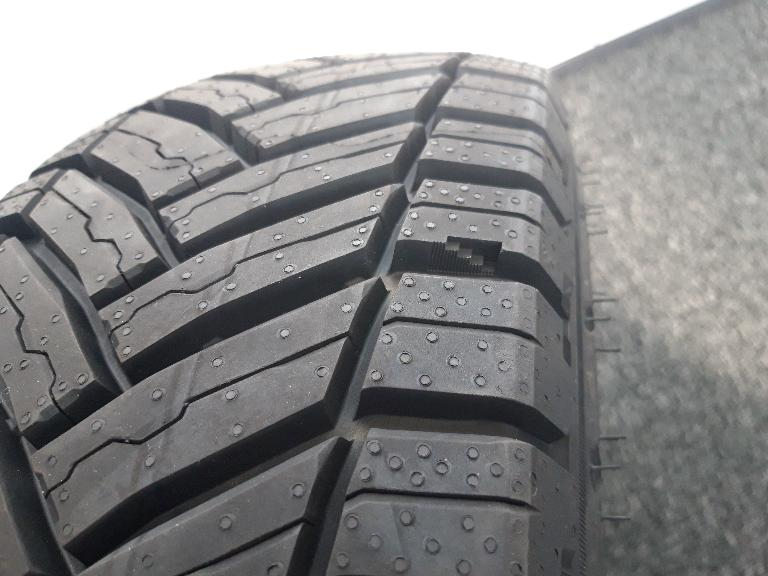temoin:100: (427, 235, 504, 278)
